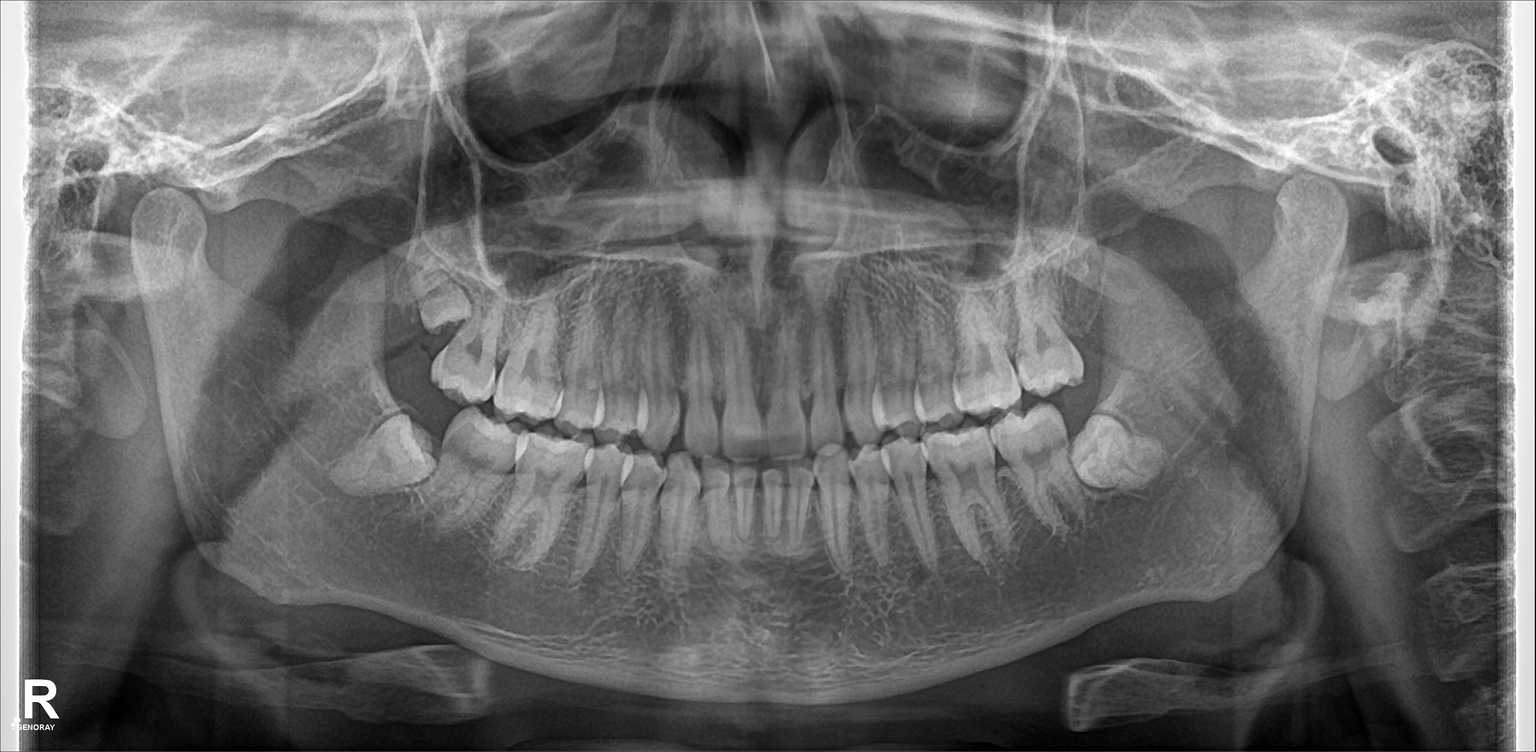Impacted Third Molar: (1073, 419, 1165, 490), (343, 426, 437, 489), (395, 248, 469, 325)
Missing Tooth: (1067, 251, 1120, 369)
